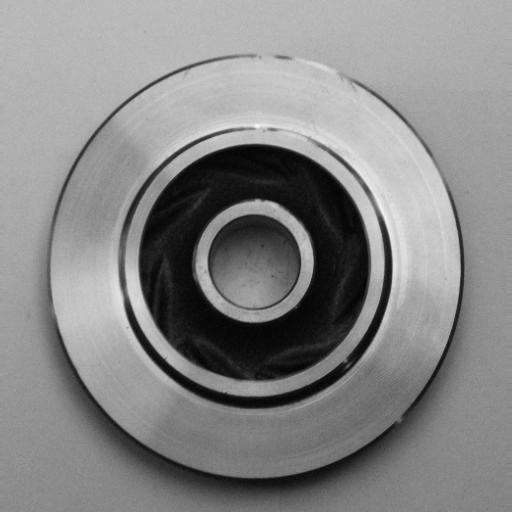scratch: (253, 36, 364, 94), (225, 109, 337, 157)
unpolished_casting: (43, 49, 470, 485)
